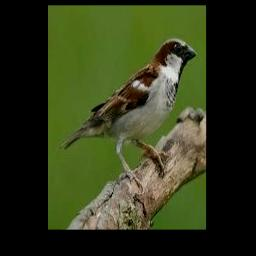Sparrow: (58, 38, 196, 190)
